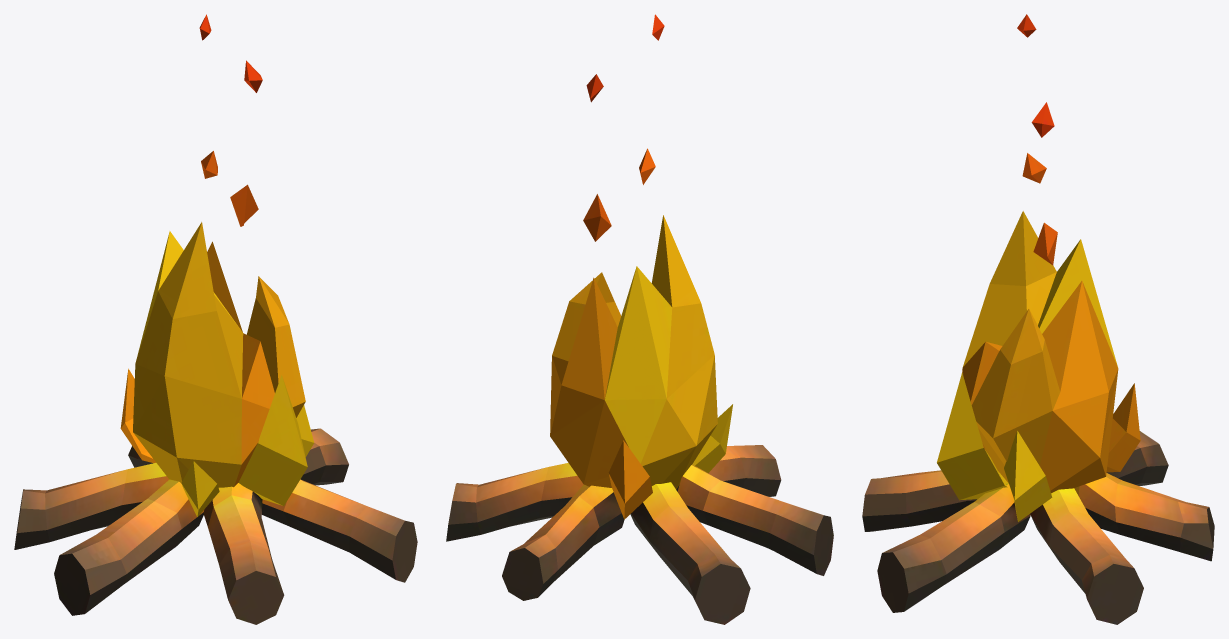
File: Campfire-transformed.glb
3 views of the same model, side by side, from view 1: azimuth 30°, elevation 25°; view 2: azimuth 150°, elevation 25°; view 3: azimuth 270°, elevation 25° (orthographic). The views are drawn at different scales.
Parts seen in each view (by area): view 1: campfire; view 2: campfire; view 3: campfire.
Part boxes in pixels (left/top/right/bottom): campfire: left=14, top=14, right=417, bottom=624; campfire: left=446, top=14, right=833, bottom=624; campfire: left=862, top=14, right=1214, bottom=624.
Size of the model in its own units: 1.68 by 2.67 by 1.59.
1 material, 1 textured.
